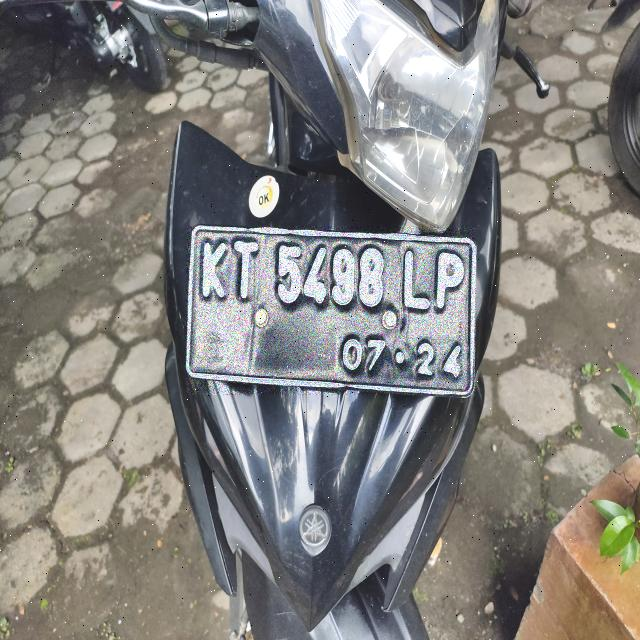plate: (187, 227, 475, 394)
